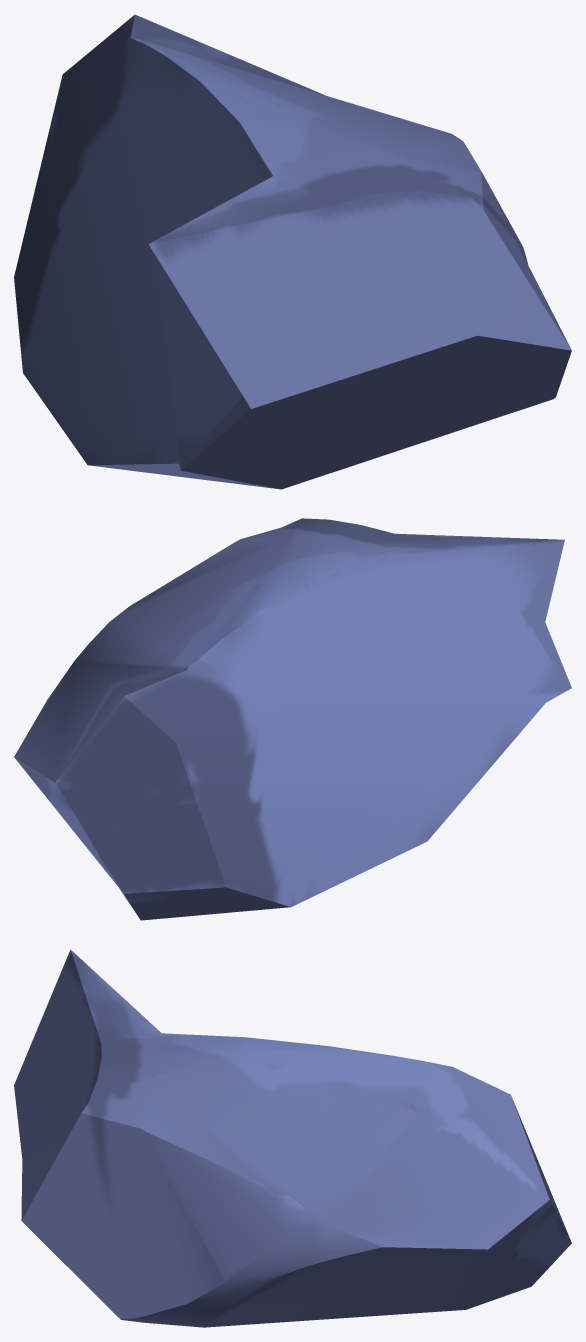
The model's file is Pedra2.fbx.
3 views of the same model, one above another, from view 1: azimuth 30°, elevation 25°; view 2: azimuth 150°, elevation 25°; view 3: azimuth 270°, elevation 25° (orthographic). The views are drawn at different scales.
Visible parts, largest first — view 1: Pedra_2; view 2: Pedra_2; view 3: Pedra_2.
Part boxes in pixels (x1,y1,x2,y2): Pedra_2: (14, 14, 571, 489); Pedra_2: (14, 518, 571, 920); Pedra_2: (14, 949, 571, 1327).
Size of the model in its own units: 246 by 163 by 332.
